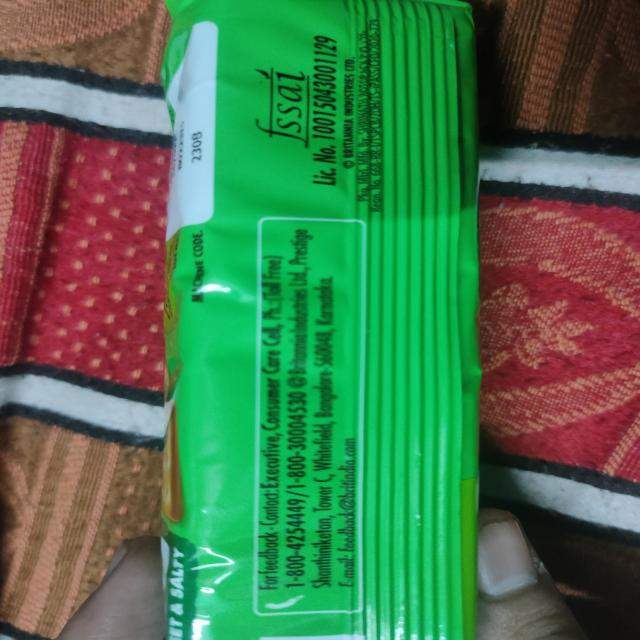biscuit: (170, 0, 472, 635)
